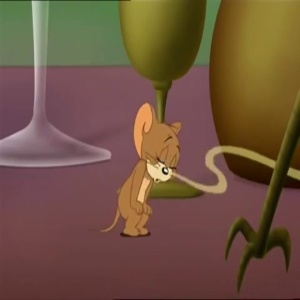Jerry: (130, 102, 189, 184)
